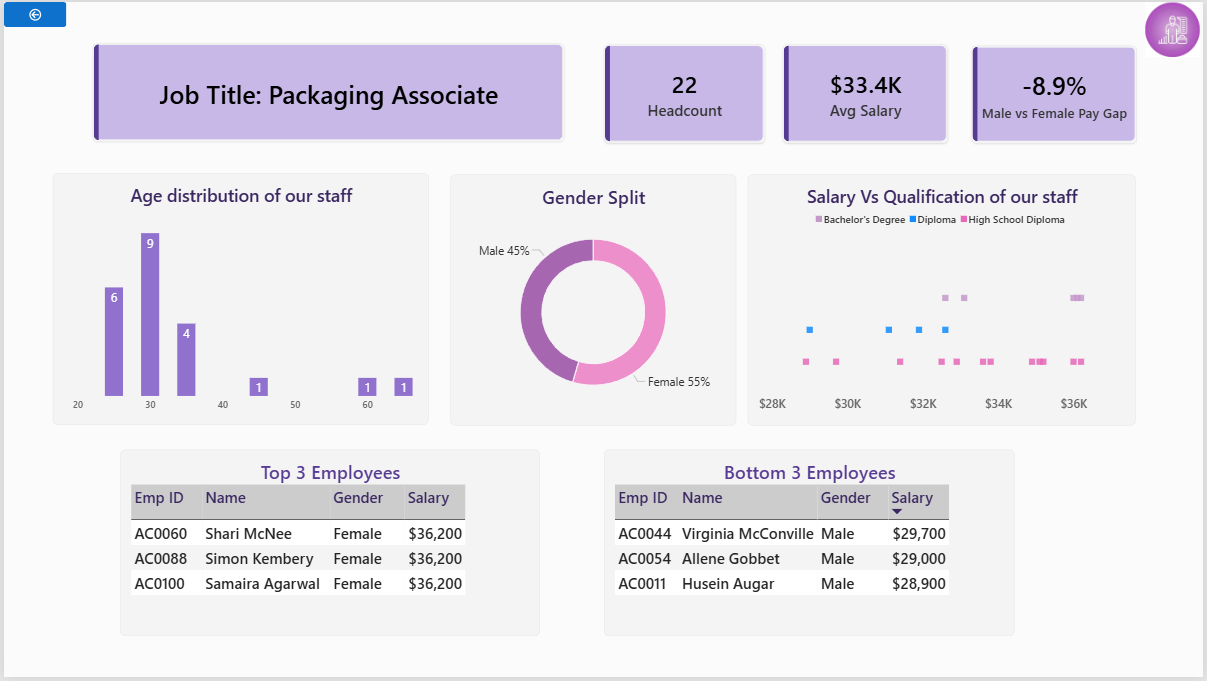

What the dashboard file says about the page in this screenshot:
{"tool":"powerbi","page":{"name":"Role-level view","canvas":[1920,1080],"ordinal":4},"visuals":[{"type":"tableEx","title":"Bottom 3 Employees","fields":{"Values":["staff.Emp ID","staff.Name","staff.Gender","Sum(staff.Salary)"]},"box":[960.9,716.6,656.9,298.6],"z":0},{"type":"tableEx","title":"Top 3 Employees","fields":{"Values":["staff.Emp ID","staff.Name","staff.Gender","Sum(staff.Salary)"]},"box":[186.4,716.6,671.4,298.6],"z":1000},{"type":"actionButton","box":[0,0,100,40],"z":2000},{"type":"cardVisual","fields":{"Data":["fact_staff.Avg Salary"]},"box":[1246.5,67.1,264,158],"z":3000},{"type":"cardVisual","fields":{"Data":["fact_staff.Headcount"]},"box":[960.9,67.1,257.5,158],"z":4000},{"type":"donutChart","title":"Gender Split","fields":{"Category":["fact_staff.Gender"],"Y":["CountNonNull(fact_staff.Job Title)"]},"box":[714.8,275.1,457.8,401.7],"z":5000},{"type":"cardVisual","fields":{"Data":["fact_staff.Drill Through Title"]},"box":[143,65.1,754.6,157.4],"z":6000},{"type":"columnChart","title":"Age distribution of our staff","fields":{"Category":["staff.Age (bins)"],"Y":["staff.Headcount"]},"box":[77.9,274.8,601.6,402.5],"z":7000},{"type":"image","box":[1825.9,0,86.9,88.7],"z":8000},{"type":"scatterChart","title":"Salary Vs Qualification of our staff","fields":{"Series":["dim_qualification.Education Qualification"],"X":["Sum(fact_staff.Salary)"],"Y":["dim_qualification.qualification_key"]},"box":[1190.8,275.1,620.7,401.7],"z":9000},{"type":"cardVisual","fields":{"Data":["_Measures.Gender Pay Gap%"]},"box":[1547.4,69.3,264,155.8],"z":10000}]}

Visuals, with their boxes in screenshot pixels (x1, y1, x2, y2), scaled from the page's 1920x1080 canvas onto the 1207x681 screenshot:
"Bottom 3 Employees" tableEx: locate(604, 452, 1017, 640)
"Top 3 Employees" tableEx: locate(117, 452, 539, 640)
actionButton: locate(0, 0, 63, 25)
cardVisual - fact_staff.Avg Salary: locate(784, 42, 950, 142)
cardVisual - fact_staff.Headcount: locate(604, 42, 766, 142)
"Gender Split" donutChart: locate(449, 173, 737, 427)
cardVisual - fact_staff.Drill Through Title: locate(90, 41, 564, 140)
"Age distribution of our staff" columnChart: locate(49, 173, 427, 427)
image: locate(1148, 0, 1202, 56)
"Salary Vs Qualification of our staff" scatterChart: locate(749, 173, 1139, 427)
cardVisual - _Measures.Gender Pay Gap%: locate(973, 44, 1139, 142)
